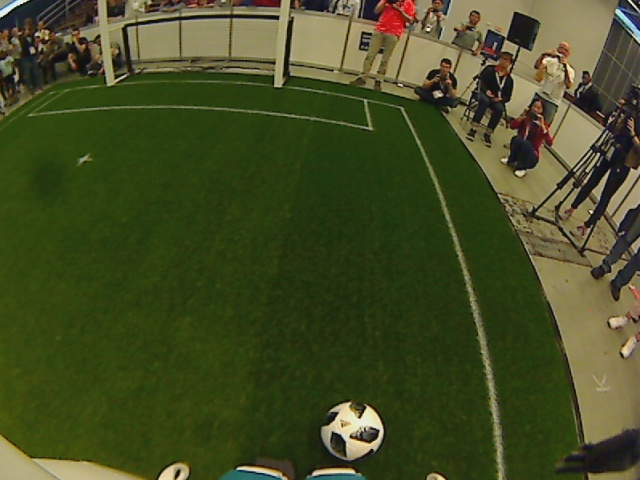ball: (317, 397, 386, 463)
